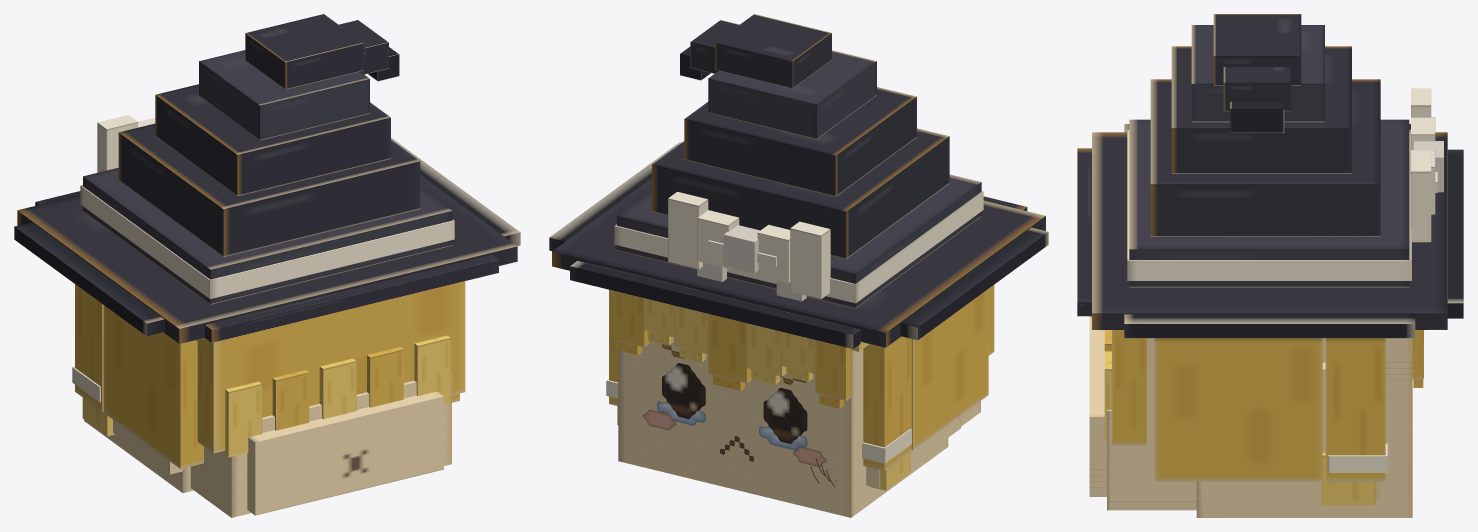
The model's file is scratch_marisa_1.obj.
3 views of the same model, side by side, from view 1: azimuth 30°, elevation 25°; view 2: azimuth 150°, elevation 25°; view 3: azimuth 270°, elevation 25° (orthographic). The views are drawn at different scales.
Parts seen in each view (by area): view 1: scratch_marisa_1; view 2: scratch_marisa_1; view 3: scratch_marisa_1.
Part boxes in pixels (x1=…): scratch_marisa_1: x1=14, y1=14, x2=520, y2=517; scratch_marisa_1: x1=549, y1=14, x2=1048, y2=517; scratch_marisa_1: x1=1077, y1=14, x2=1463, y2=517.
Bounding box in the file's own units: 19 × 19.34 × 15.53.
Materials: 1 (1 with a texture image).
